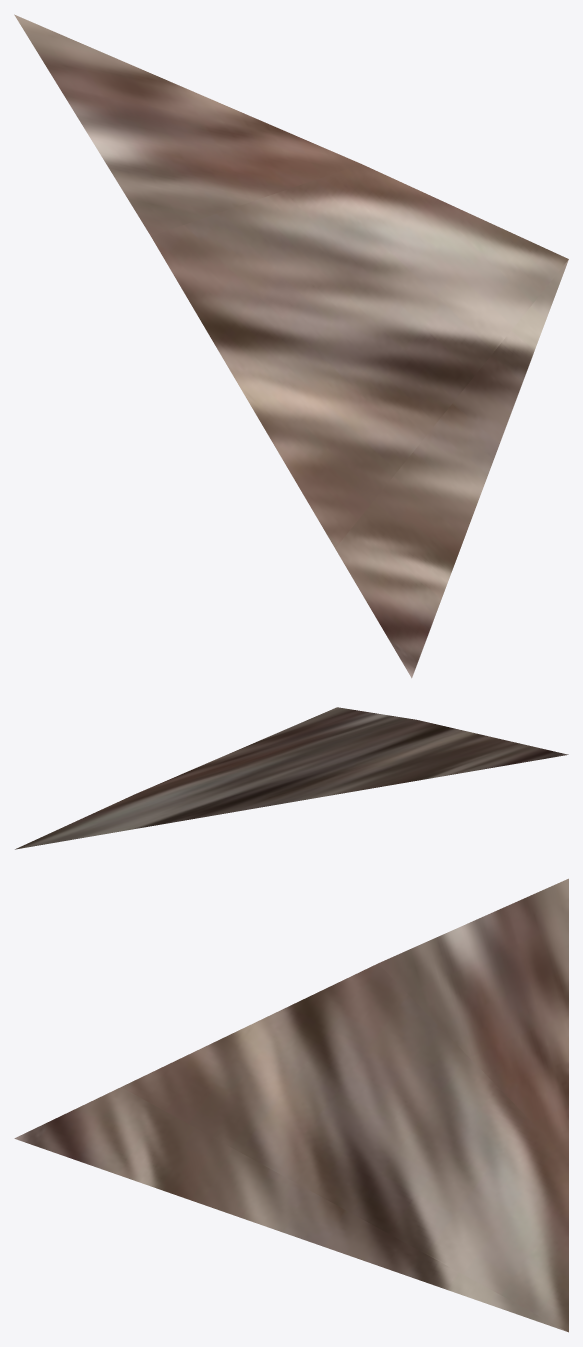
3 views of the same model, one above another, from view 1: azimuth 30°, elevation 25°; view 2: azimuth 150°, elevation 25°; view 3: azimuth 270°, elevation 25° (orthographic). The views are drawn at different scales.
Bounding box in the file's own units: 0.8675 × 0.5679 × 1.08.
1 material, 1 textured.
